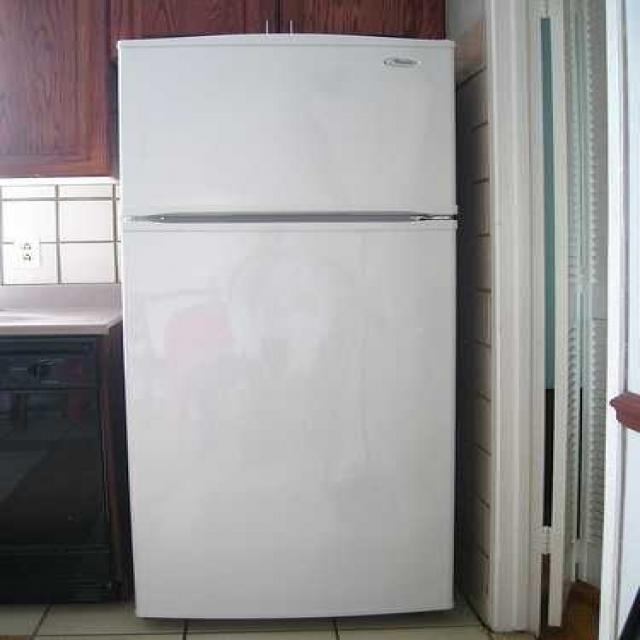refrigerator: (117, 33, 460, 624)
